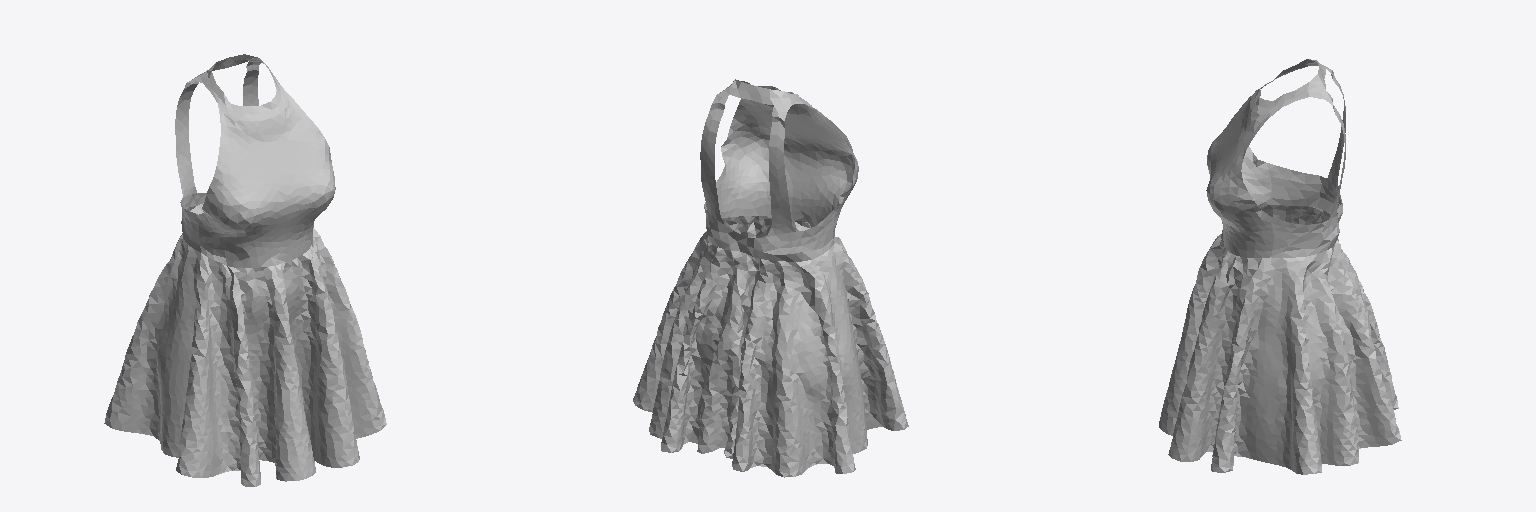
Rendered from medium_makehuman_green_noinside6.obj.
The picture shows the model from 3 angles: view 1: azimuth 30°, elevation 25°; view 2: azimuth 150°, elevation 25°; view 3: azimuth 270°, elevation 25°; orthographic projection.
Parts seen in each view (by area): view 1: medium_makehuman_green_noinside4:polySurface2 medium_makehuman_g; view 2: medium_makehuman_green_noinside4:polySurface2 medium_makehuman_g; view 3: medium_makehuman_green_noinside4:polySurface2 medium_makehuman_g.
Boxes of the visible parts, <box> form: medium_makehuman_green_noinside4:polySurface2 medium_makehuman_g: <box>104,54,386,486</box>; medium_makehuman_green_noinside4:polySurface2 medium_makehuman_g: <box>633,79,908,477</box>; medium_makehuman_green_noinside4:polySurface2 medium_makehuman_g: <box>1159,59,1401,474</box>.
Bounding box in the file's own units: 5.37 × 8.06 × 4.77.